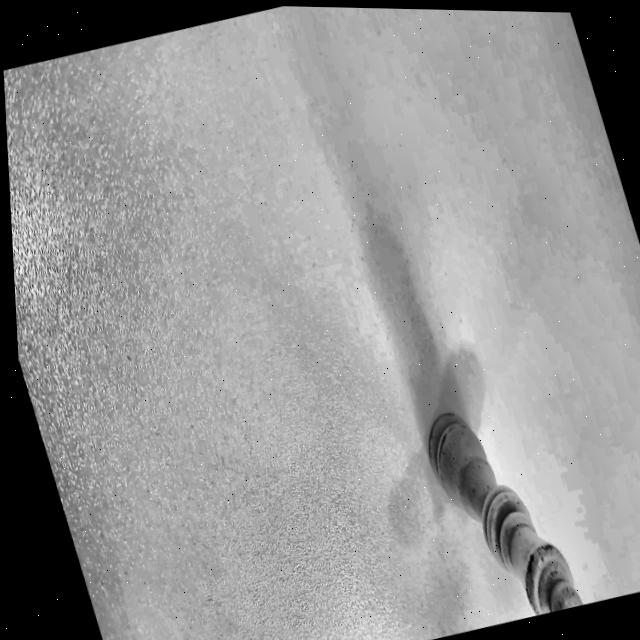white-queen: (392, 356, 604, 634)
